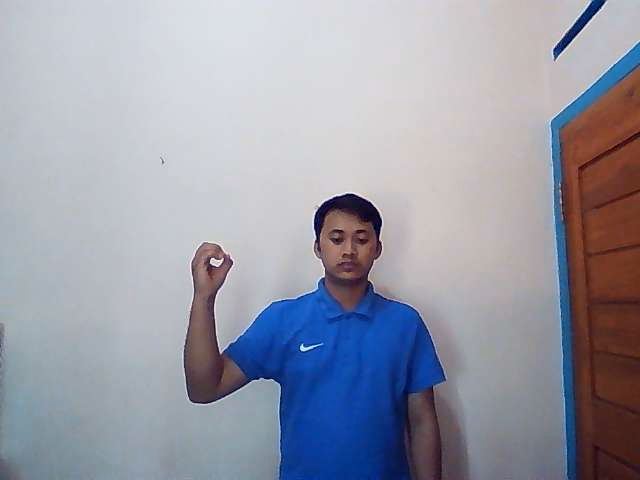O: (190, 241, 234, 300)
